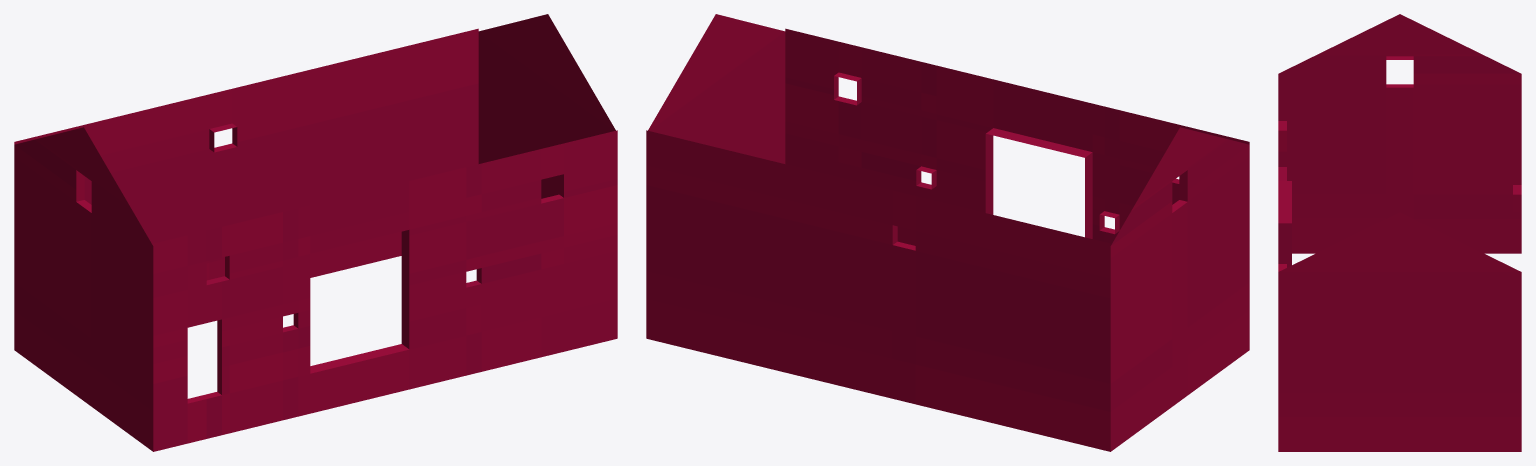
Rendered from SM_Bld_009_Masonry.glb.
3 views of the same model, side by side, from view 1: azimuth 30°, elevation 25°; view 2: azimuth 150°, elevation 25°; view 3: azimuth 270°, elevation 25° (orthographic). The views are drawn at different scales.
Parts seen in each view (by area): view 1: SM_Bld_009_Masonry; view 2: SM_Bld_009_Masonry; view 3: SM_Bld_009_Masonry.
Boxes of the visible parts, x1,y1,x2,y2 form: SM_Bld_009_Masonry: (14,14,617,451); SM_Bld_009_Masonry: (646,14,1249,451); SM_Bld_009_Masonry: (1278,14,1521,451).
Bounding box in the file's own units: 12.16 × 6.86 × 6.3.
